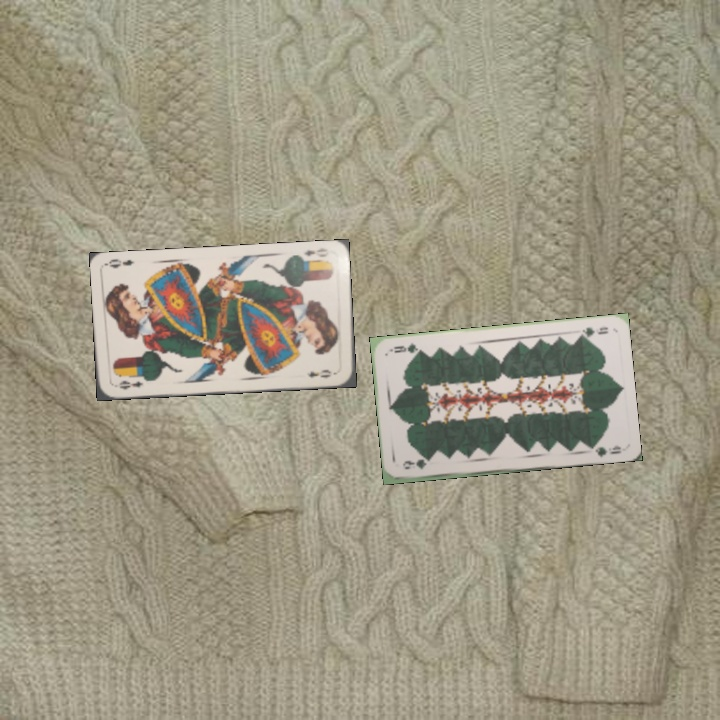EO: (115, 376, 145, 392), (300, 244, 331, 259)
G9: (574, 323, 611, 340), (398, 457, 428, 472)
